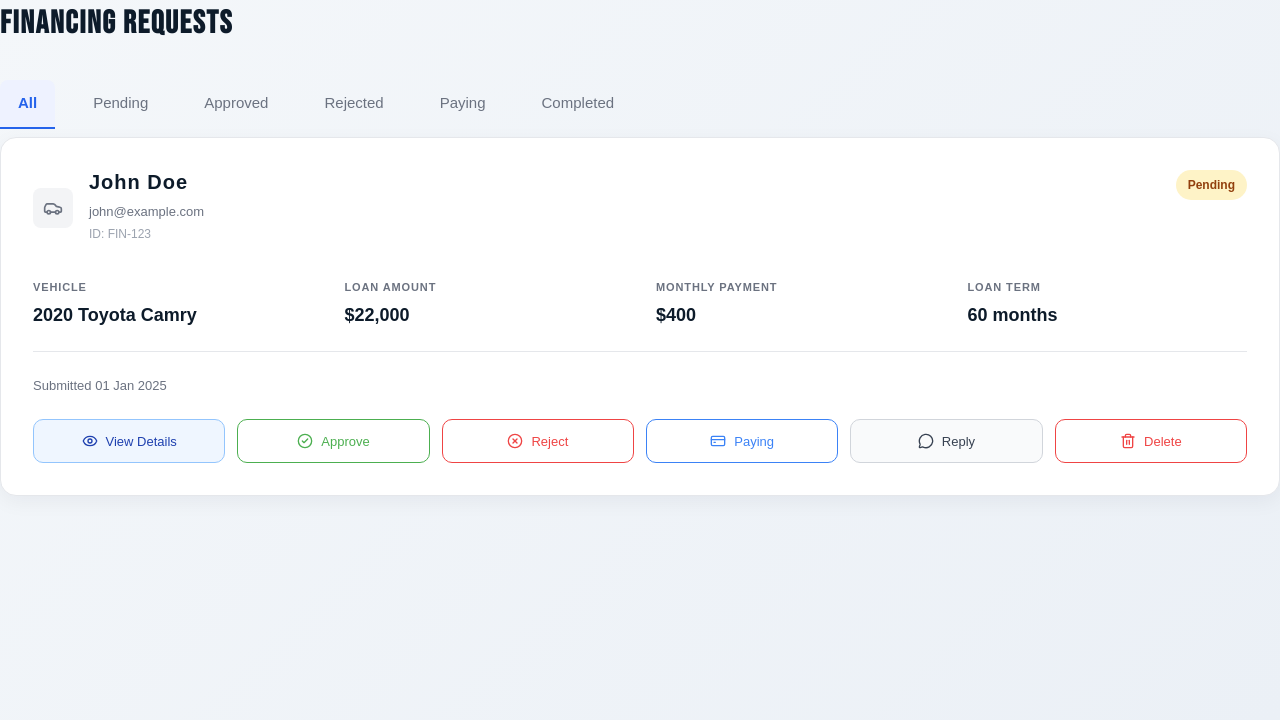
Test case: AdminFinancing - Backend Integration › Delete › removes item from list after successful delete
Expected: the heading "John Doe" is shown, [89,170,204,194]
Click the button "Delete" at (1151,441), box [1055,419,1247,463]
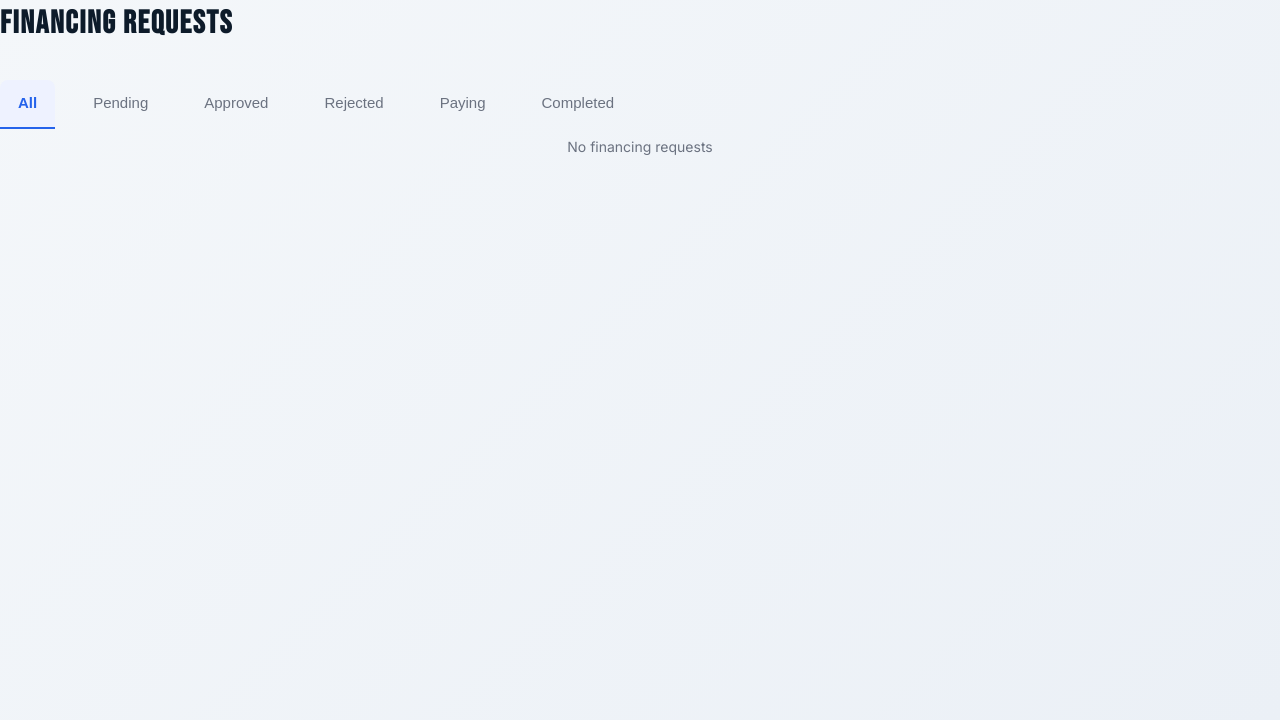
Expected: the heading "John Doe" is gone
